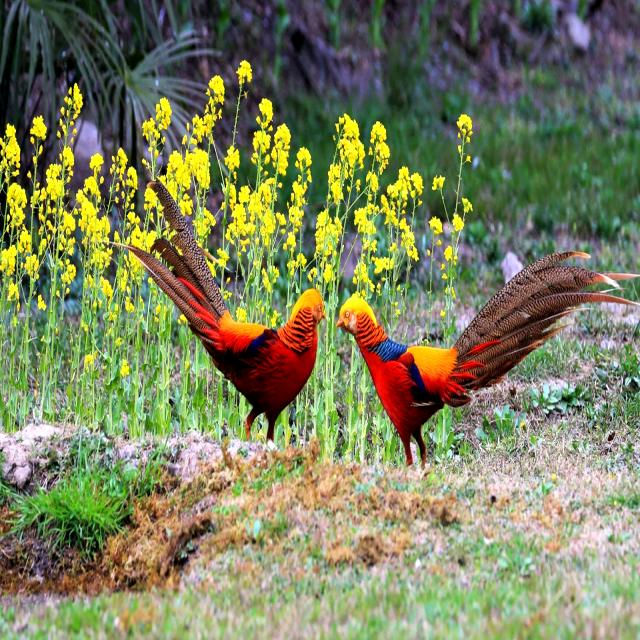Chrysolophus pictus feather: (452, 251, 640, 390), (123, 180, 227, 349)
